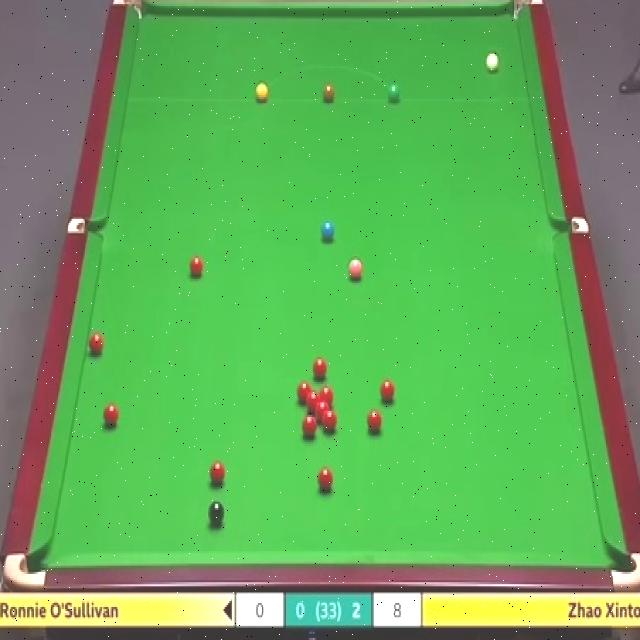black-ball: (208, 502, 225, 530)
blue-ball: (321, 218, 335, 243)
brown-ball: (323, 81, 335, 103)
green-ball: (387, 84, 400, 104)
pink-ball: (349, 257, 363, 280)
red-ball: (365, 408, 384, 436), (378, 380, 397, 408), (88, 332, 105, 358), (103, 401, 119, 428), (318, 465, 333, 493), (210, 460, 226, 486), (312, 357, 327, 382), (302, 414, 316, 439), (296, 380, 310, 404), (323, 409, 337, 433), (320, 386, 334, 407), (190, 255, 203, 277), (306, 391, 320, 411), (316, 401, 329, 420)
white-ball: (484, 49, 502, 76)
yellow-ball: (255, 83, 268, 104)
